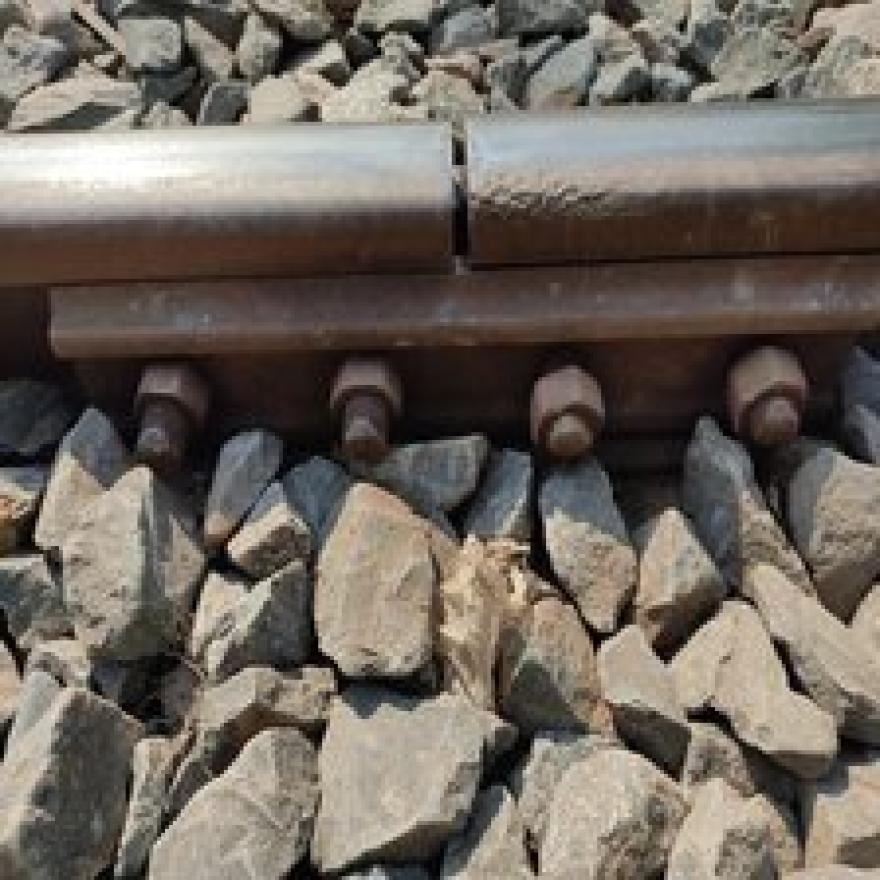railway-gap: (325, 71, 602, 310)
